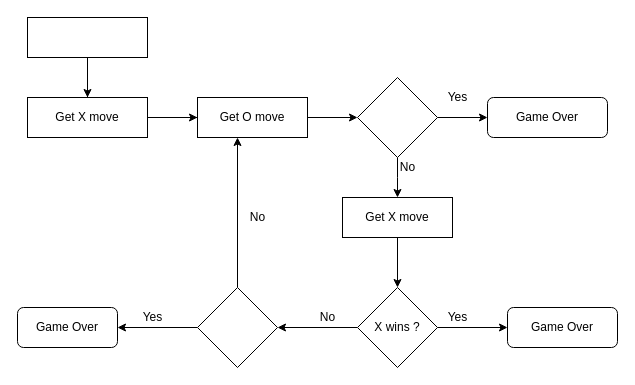
Image size: 635x385. Some labels were removed from this diagram. The centre of each missing label's shape, as x and y in pixels:
Draw ?: (237,327)
Initialisation: (87,37)
O wins ?: (397,117)
